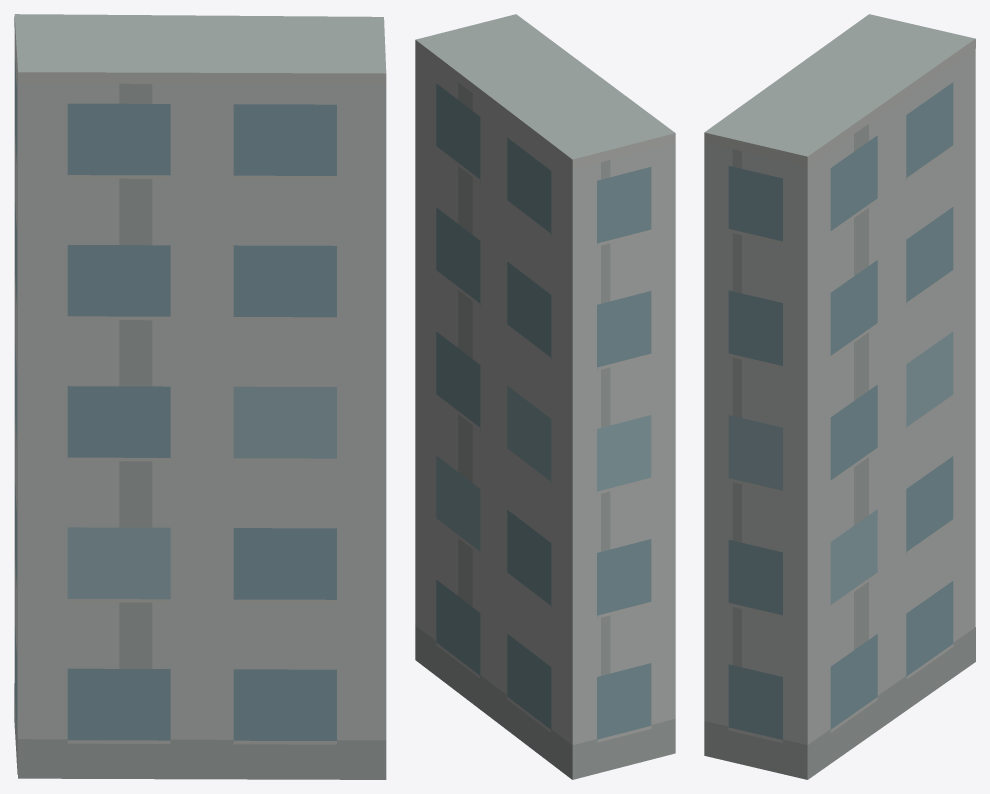
The model's file is survey-upis-32852492.glb.
The picture shows the model from 3 angles, left to right: view 1: azimuth 30°, elevation 25°; view 2: azimuth 150°, elevation 25°; view 3: azimuth 270°, elevation 25°; orthographic projection. The views are drawn at different scales.
Parts seen in each view (by area): view 1: survey-upis-32852492.tmp; view 2: survey-upis-32852492.tmp; view 3: survey-upis-32852492.tmp.
Part boxes in pixels (box(x1,y1,x2,y2)): survey-upis-32852492.tmp: box(14, 14, 386, 779); survey-upis-32852492.tmp: box(415, 14, 675, 779); survey-upis-32852492.tmp: box(704, 14, 975, 779).
Bounding box in the file's own units: 7.49 × 15.25 × 6.03.
